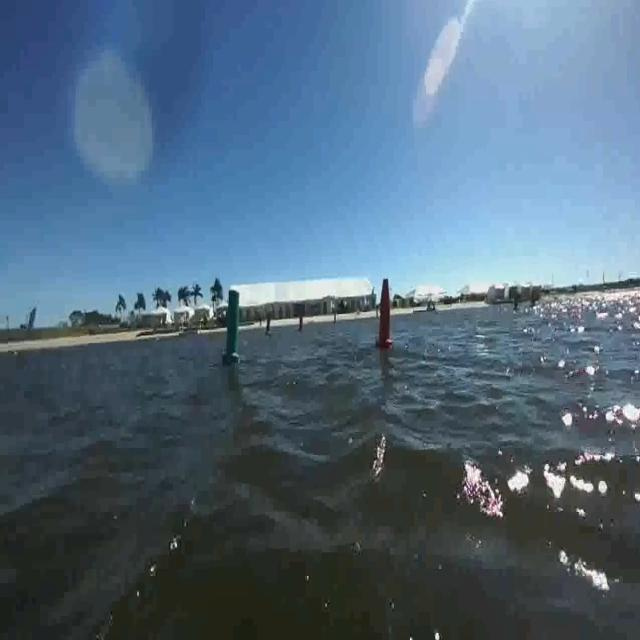green-column-buoy: (222, 286, 245, 363)
red-column-buoy: (376, 278, 395, 350), (296, 312, 304, 332)
